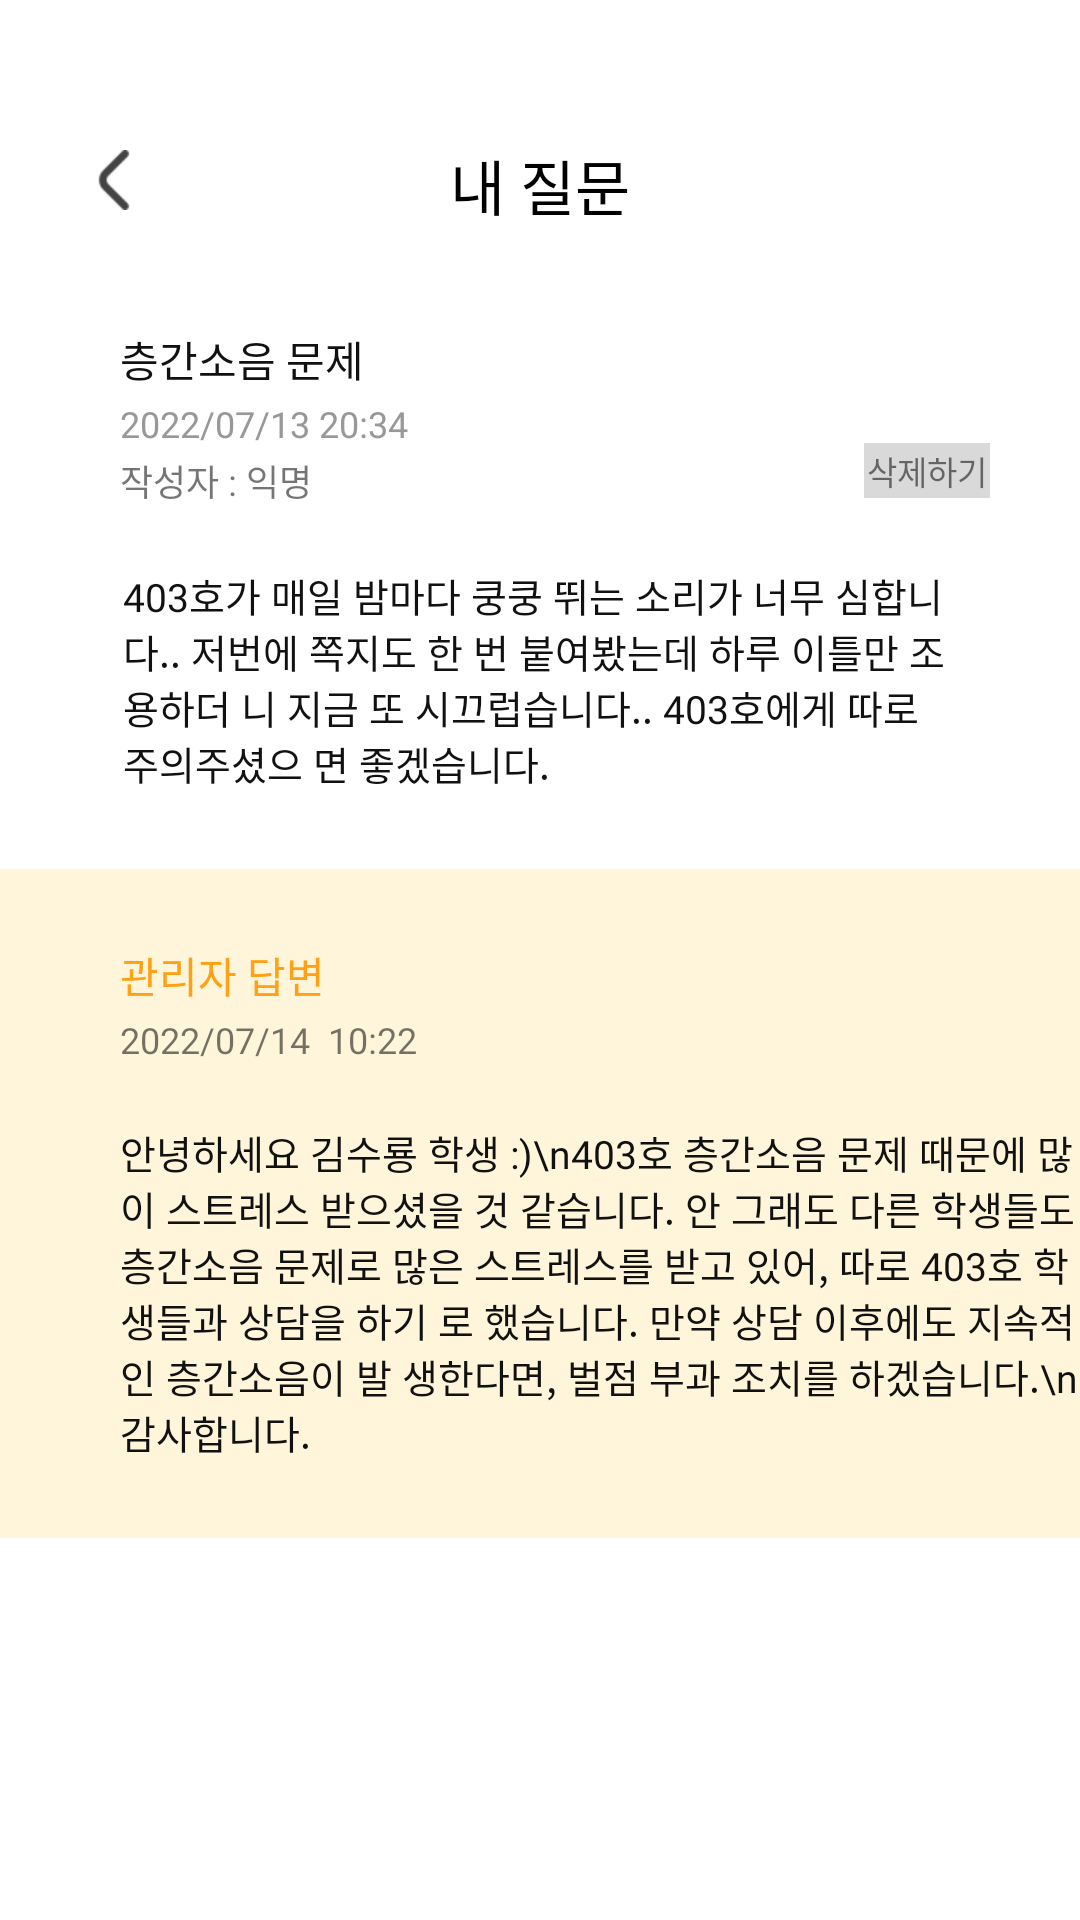

Where to tap for icons on this 1080px×1920px app screen, as (x=x, y=y):
back: (x=114, y=180)
